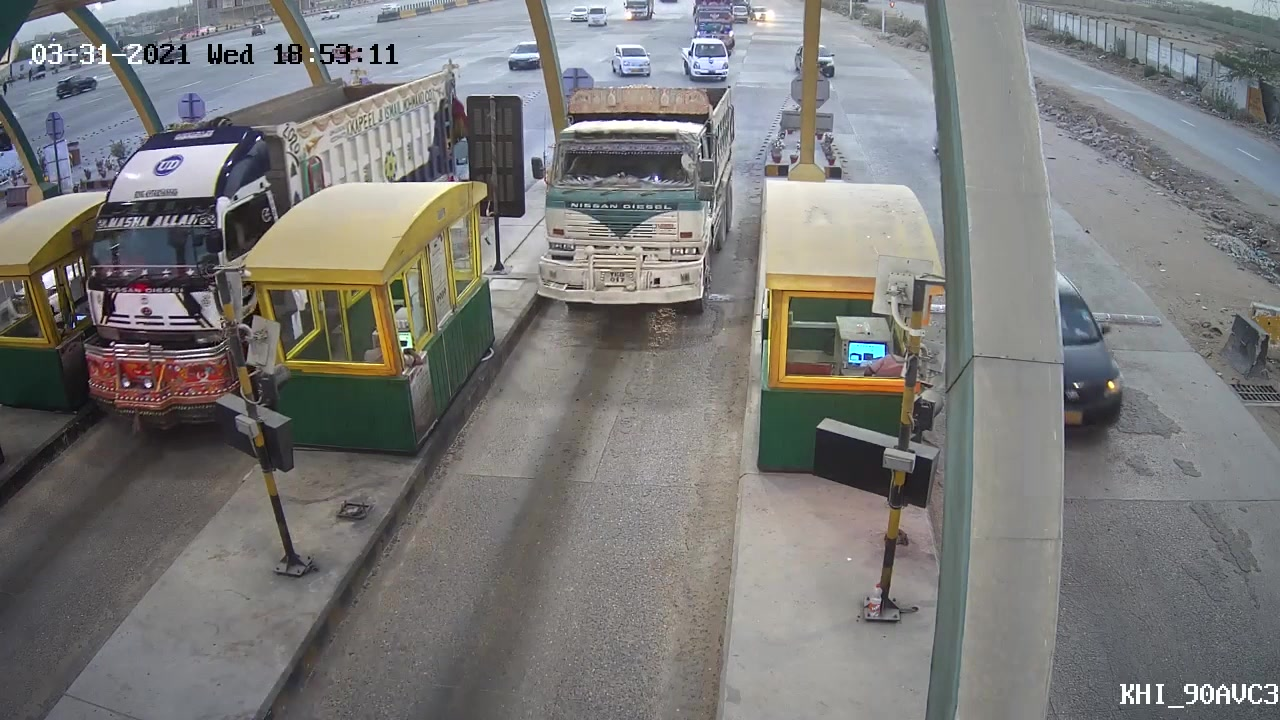F5: (525, 76, 745, 328)
